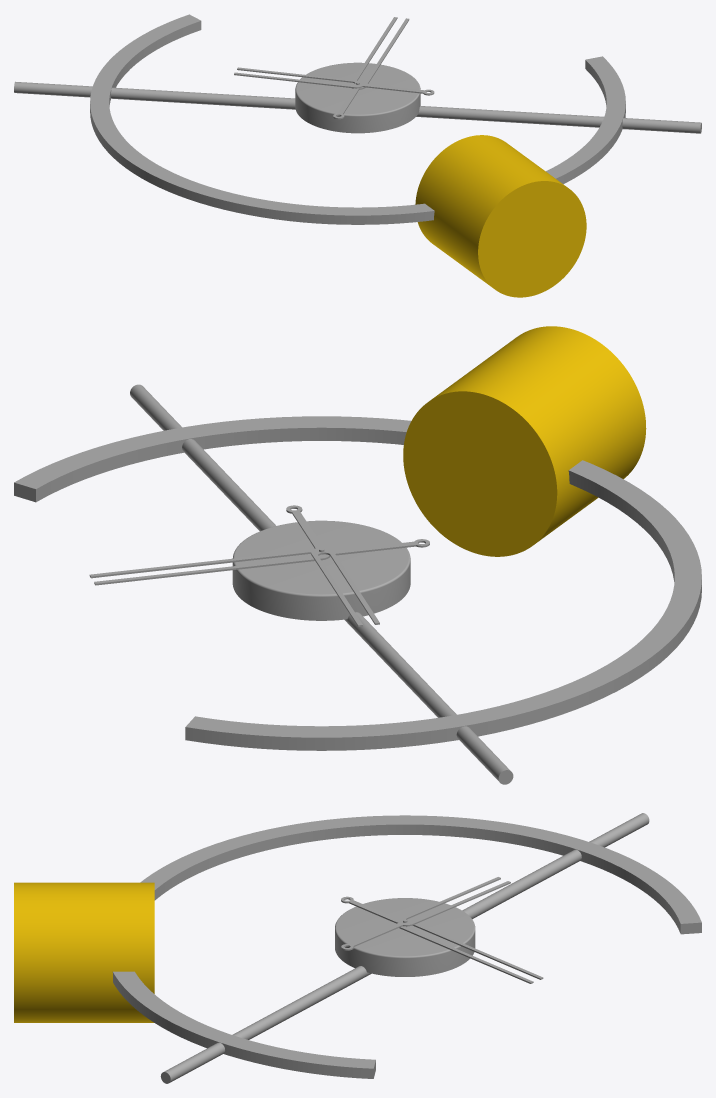
The model's file is moon.glb.
3 views of the same model, one above another, from view 1: azimuth 30°, elevation 25°; view 2: azimuth 150°, elevation 25°; view 3: azimuth 270°, elevation 25° (orthographic). The views are drawn at different scales.
Visible parts, largest first — view 1: Gold Paye, Helal, Motor, Mile, hand.002, hand.001; view 2: Gold Paye, Helal, Motor, Mile, hand.001, hand.002; view 3: Gold Paye, Helal, Motor, Mile, hand.001, hand.002.
Boxes of the visible parts, x1,y1,x2,y2 form: Gold Paye: [415, 135, 586, 297]; Helal: [90, 14, 625, 224]; Motor: [295, 62, 420, 133]; Mile: [14, 81, 701, 133]; hand.002: [234, 67, 434, 95]; hand.001: [333, 17, 409, 119]; Gold Paye: [403, 326, 646, 556]; Helal: [14, 416, 701, 750]; Motor: [232, 520, 410, 620]; Mile: [130, 384, 513, 784]; hand.001: [89, 539, 429, 585]; hand.002: [286, 505, 379, 626]; Gold Paye: [14, 882, 154, 1022]; Helal: [112, 815, 701, 1078]; Motor: [335, 898, 475, 976]; Mile: [160, 813, 649, 1083]; hand.001: [341, 896, 543, 983]; hand.002: [341, 877, 510, 950].
Size of the model in its own units: 3.92 by 0.8883 by 4.35.
